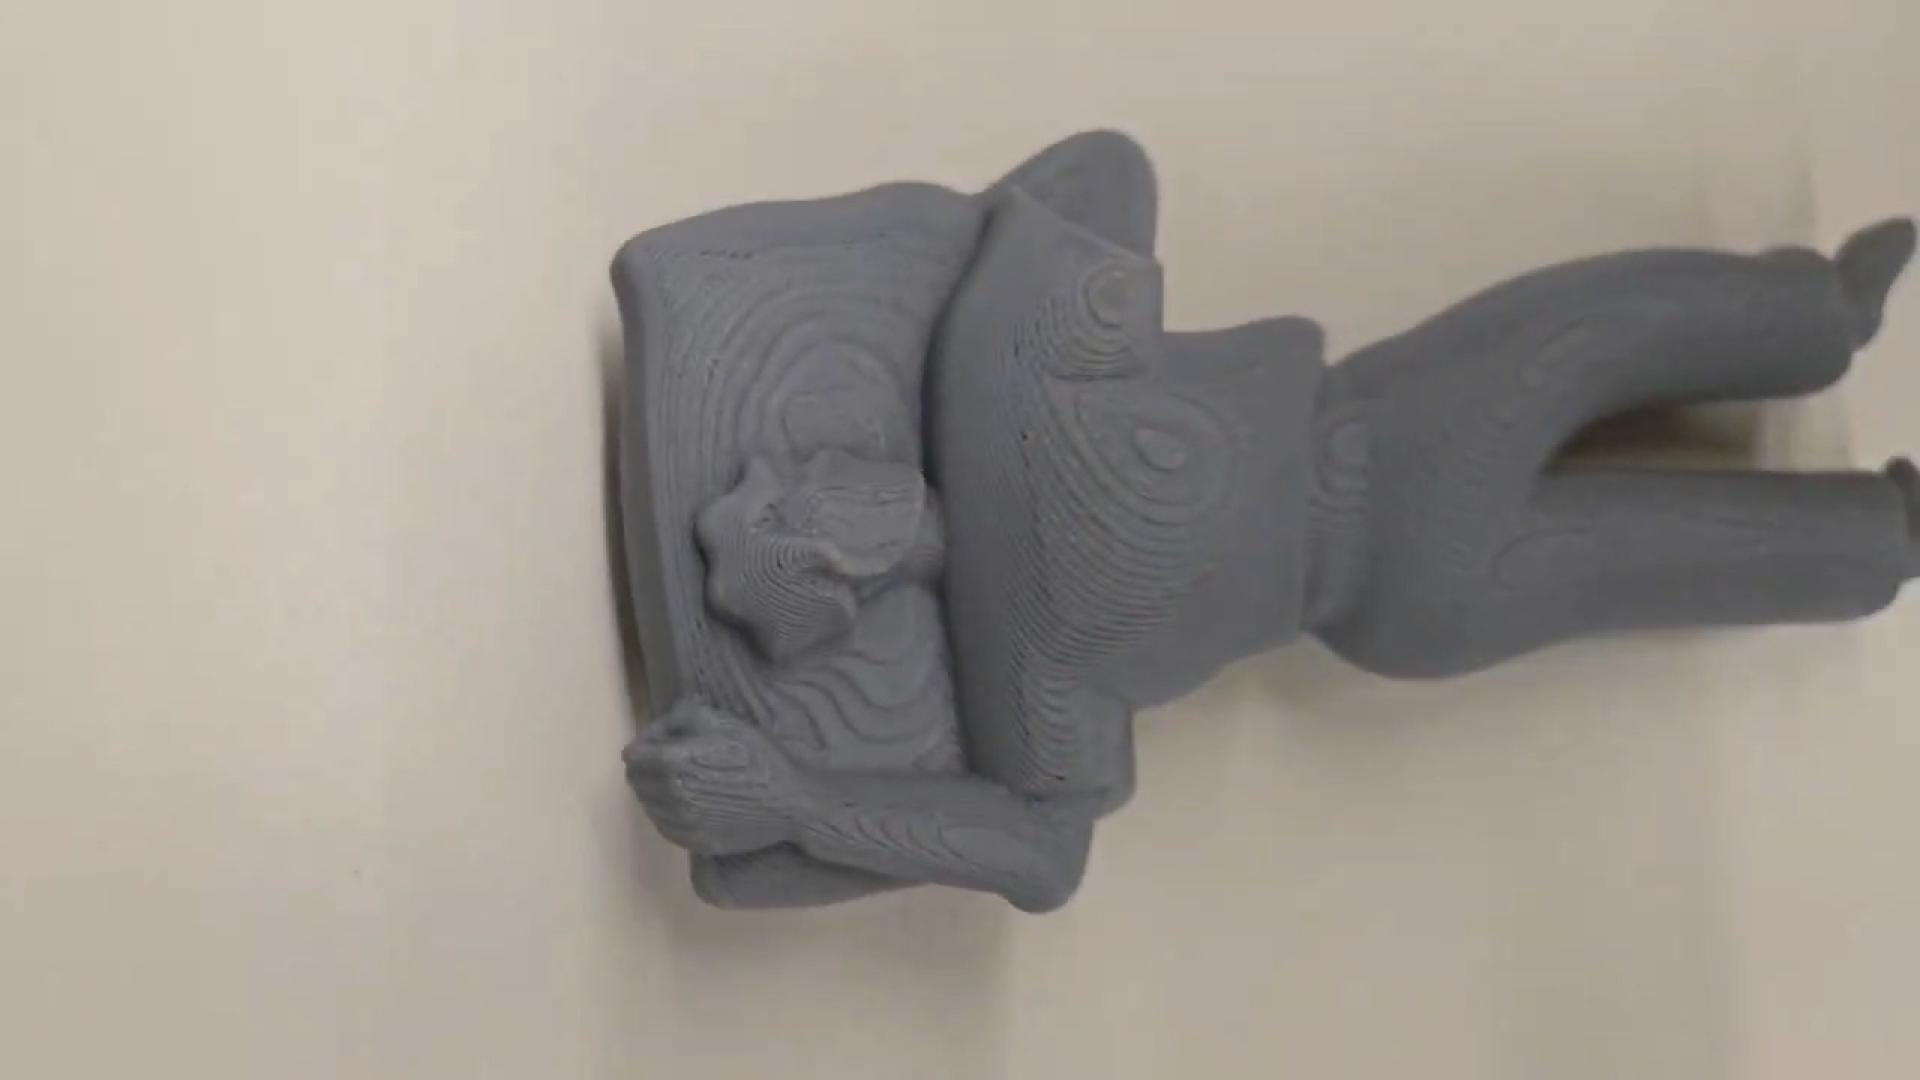Bad-style: (584, 127, 1920, 927)
